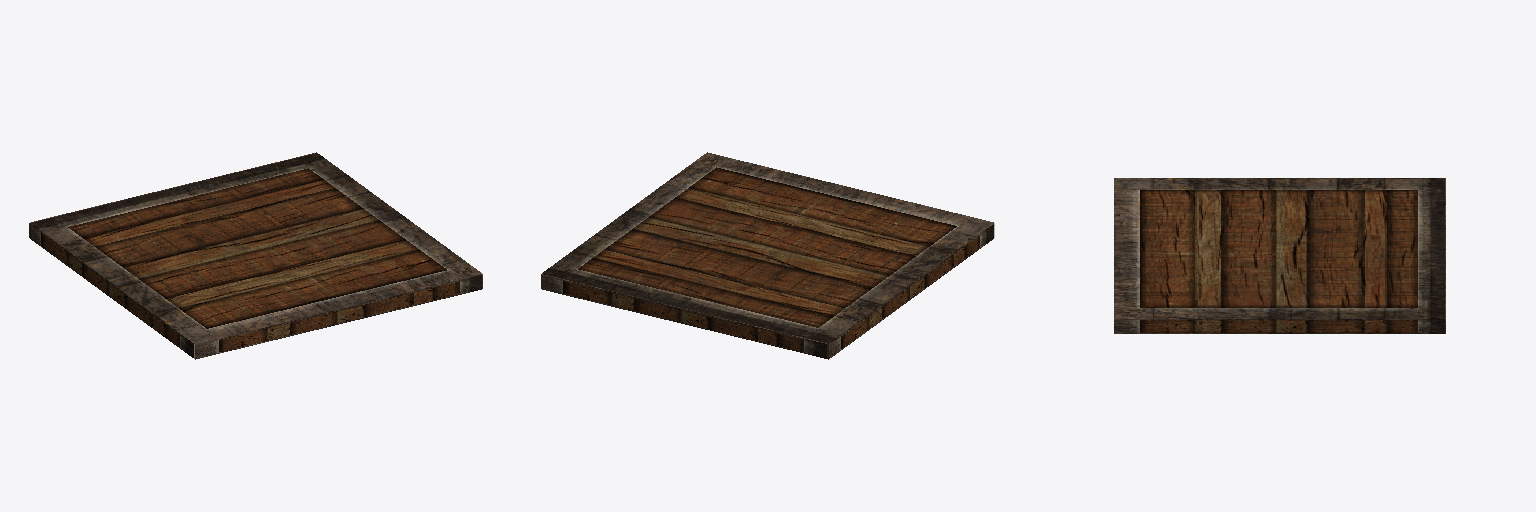
3 renders of one model, left to right at view 1: azimuth 30°, elevation 25°; view 2: azimuth 150°, elevation 25°; view 3: azimuth 270°, elevation 25°, orthographic.
Visible parts, largest first — view 1: Cube.001; view 2: Cube.001; view 3: Cube.001.
Part boxes in pixels (left/top/right/bottom): Cube.001: left=29, top=152, right=482, bottom=359; Cube.001: left=541, top=152, right=994, bottom=359; Cube.001: left=1114, top=178, right=1445, bottom=333.
Bounding box in the file's own units: 40 × 2 × 40.
1 materials, 1 textured.